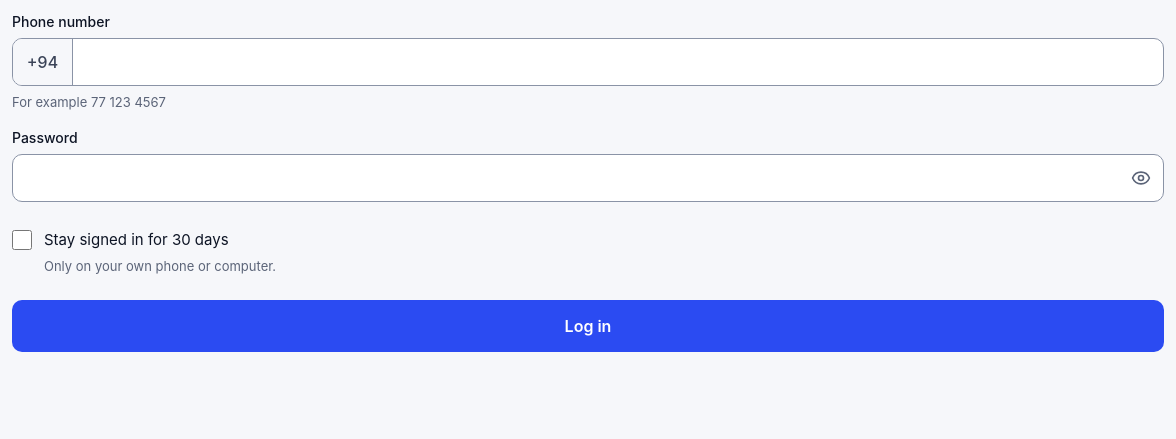
Test: StudentLoginForm › shows one generic message for wrong credentials
Type "077 123 4567" into the field labelled "Phone number" at x=618, y=62, box [73, 39, 1163, 85]
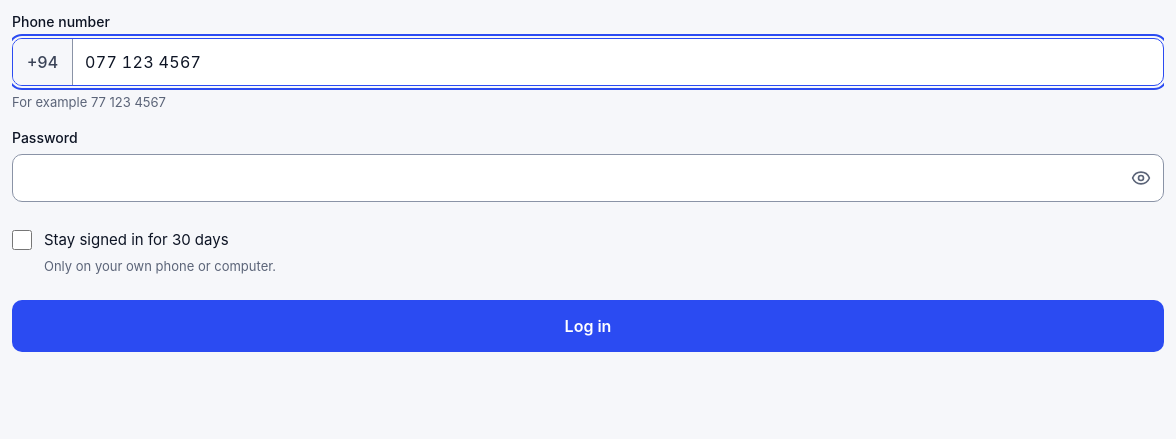
Type "correct-horse" into the password field labelled "Password" at x=566, y=178, box [13, 155, 1119, 201]
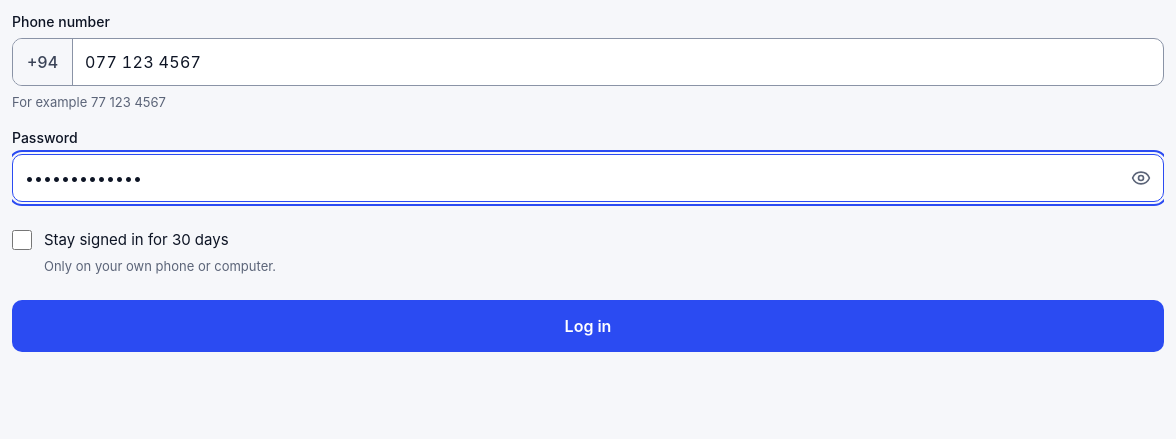
Click the button "Log in" at x=588, y=326, box [12, 300, 1164, 352]
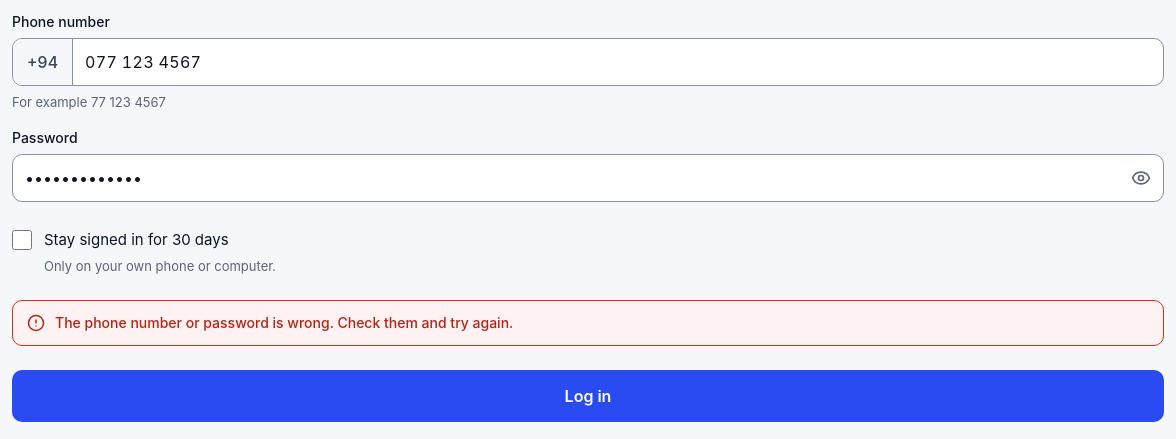
Expected: the message reads "The phone number or password is wrong. Check them and try again.", [55, 314, 513, 331]
